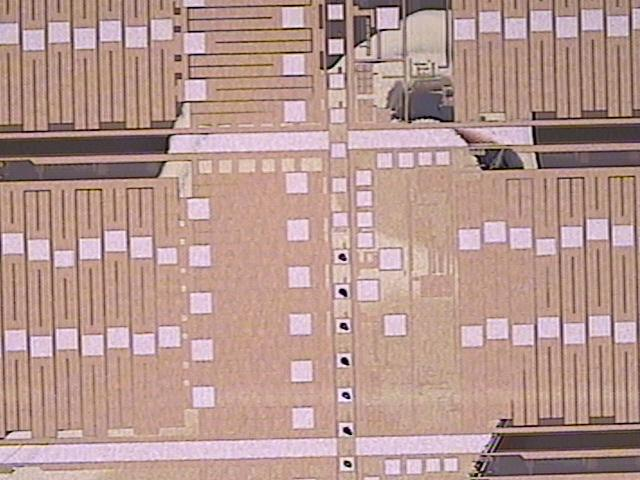COATING BAD: (6, 7, 559, 480)
